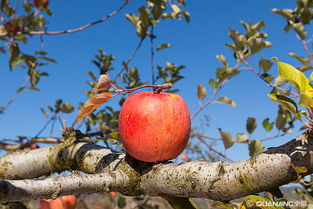apple: (118, 91, 192, 165)
